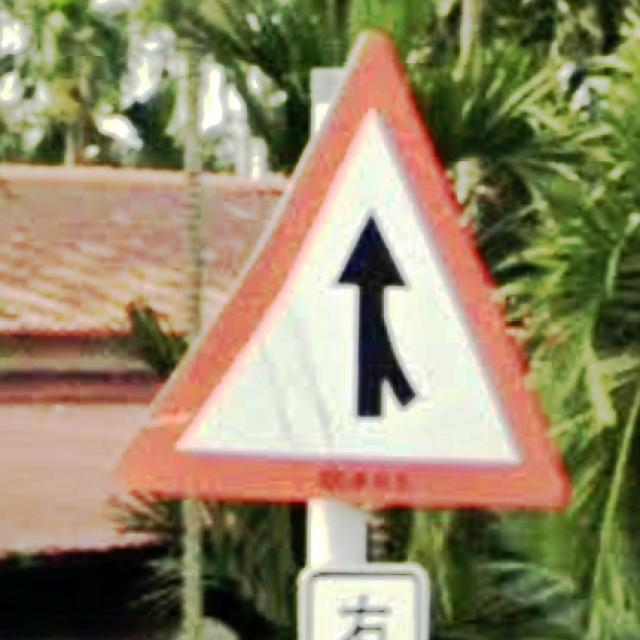rightmerge: (112, 32, 569, 509)
